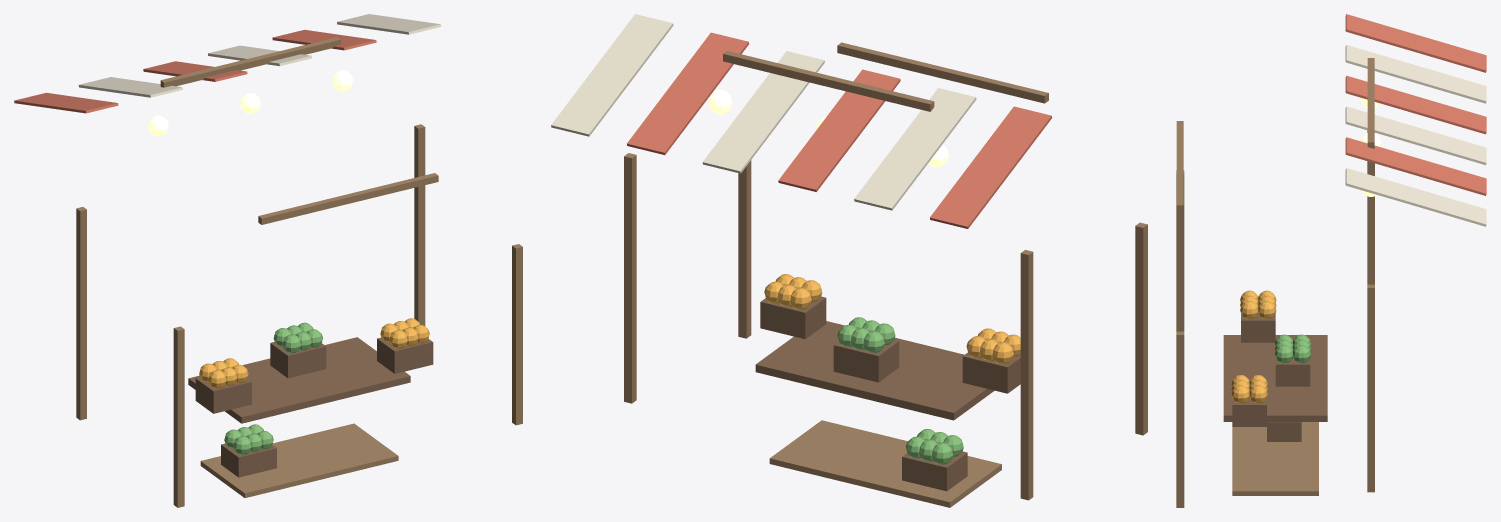
File: market_stall.glb
The picture shows the model from 3 angles, left to right: view 1: azimuth 30°, elevation 25°; view 2: azimuth 150°, elevation 25°; view 3: azimuth 270°, elevation 25°; orthographic projection. The views are drawn at different scales.
Parts seen in each view (by area): view 1: Cube.006, Cube.007, Cube.001, Cube.003, Cube, Cube.002, Cube.004, Cube.005, Cube.015, Cube.016, Cube.014, Cube.017 (+6 smaller); view 2: Cube.006, Cube.007, Cube.013, Cube.008, Cube.009, Cube.012, Cube.011, Cube.010, Cube.001, Cube.003, Cube, Cube.004 (+6 smaller); view 3: Cube.006, Cube.007, Cube.008, Cube.013, Cube.012, Cube.009, Cube.010, Cube.011, Cube.003, Cube.002, Cube, Cube.015 (+6 smaller).
Boxes of the visible parts, x1,y1,x2,y2 form: Cube.006: (188, 337, 410, 423); Cube.007: (200, 423, 398, 497); Cube.001: (76, 207, 86, 420); Cube.003: (414, 124, 425, 326); Cube: (173, 326, 184, 507); Cube.002: (512, 244, 522, 425); Cube.004: (258, 173, 438, 224); Cube.005: (160, 37, 340, 87); Cube.015: (270, 342, 326, 378); Cube.016: (377, 337, 433, 373); Cube.014: (195, 377, 251, 413); Cube.017: (221, 443, 276, 477); Cube.006: (755, 321, 994, 420); Cube.007: (769, 420, 1001, 507); Cube.013: (551, 14, 673, 136); Cube.008: (929, 106, 1052, 228); Cube.009: (854, 88, 976, 210); Cube.012: (627, 32, 749, 154); Cube.011: (702, 51, 824, 173); Cube.010: (778, 69, 900, 191); Cube.001: (1020, 250, 1033, 500); Cube.003: (624, 153, 636, 403); Cube: (1135, 222, 1147, 435); Cube.004: (837, 42, 1048, 103); Cube.006: (1223, 335, 1327, 421); Cube.007: (1232, 422, 1318, 495); Cube.008: (1345, 14, 1486, 72); Cube.013: (1345, 168, 1486, 226); Cube.012: (1345, 137, 1486, 195); Cube.009: (1345, 45, 1486, 103); Cube.010: (1345, 75, 1486, 134); Cube.011: (1345, 106, 1486, 165); Cube.003: (1367, 284, 1374, 492); Cube.002: (1176, 331, 1184, 507); Cube: (1176, 170, 1184, 331); Cube.015: (1275, 358, 1310, 386).
Size of the model in its own units: 2.31 by 2.3 by 1.79.
